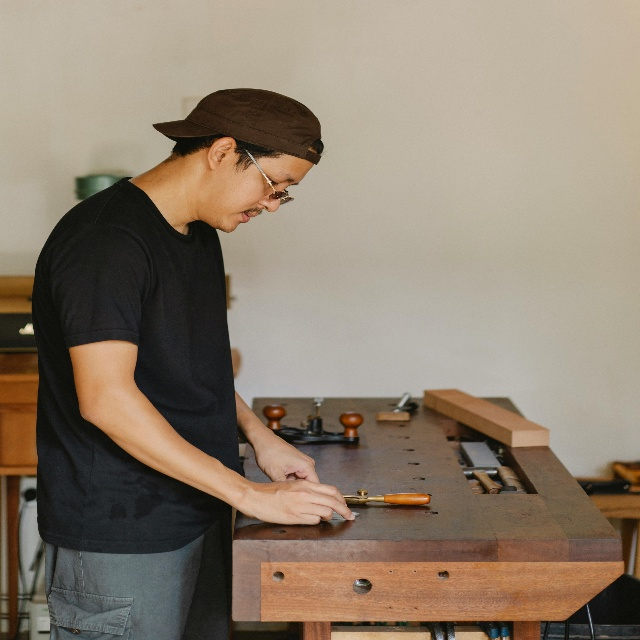Gafas: (245, 148, 294, 207)
Sin_guantes: (245, 478, 355, 525), (253, 428, 321, 484)
